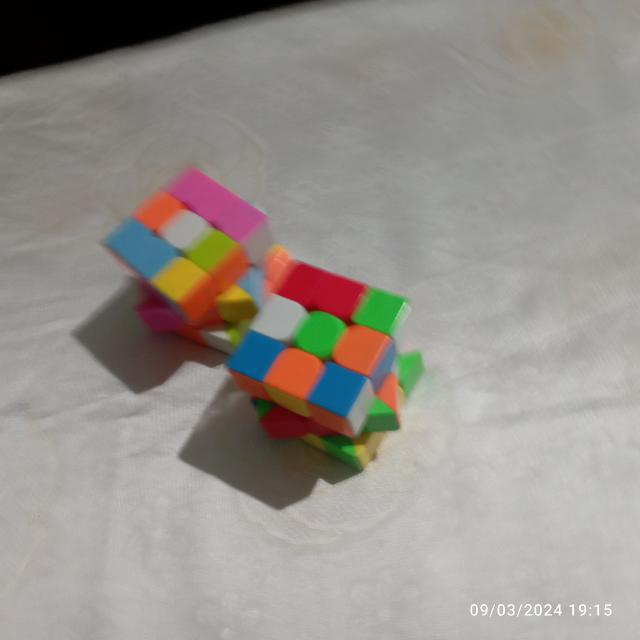Rub: (218, 254, 427, 480), (92, 158, 300, 358)
